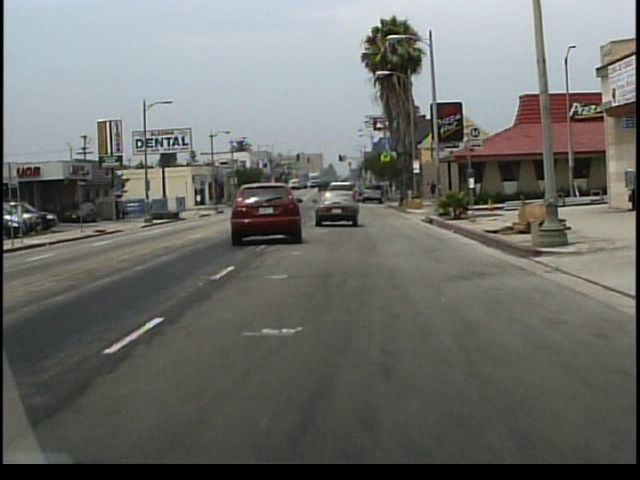person: (430, 179, 438, 199)
